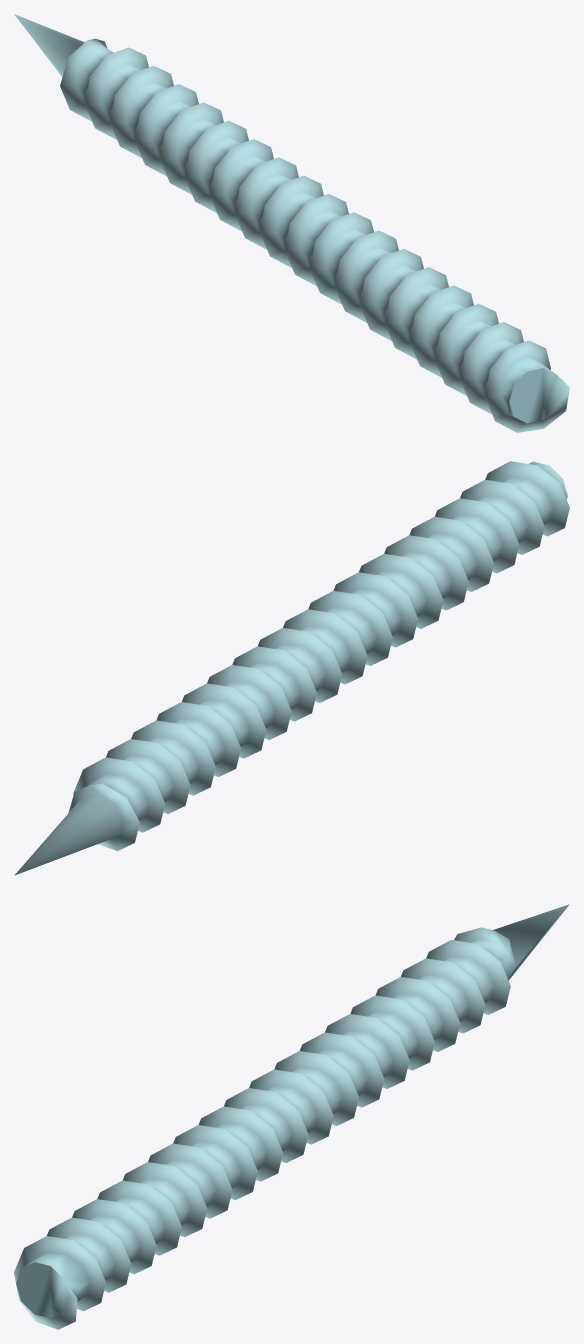
The model's file is original-8.obj.
3 renders of one model, top to bottom at view 1: azimuth 30°, elevation 25°; view 2: azimuth 150°, elevation 25°; view 3: azimuth 330°, elevation 25°, orthographic.
Parts seen in each view (by area): view 1: Group6/mesh6/mesh6-geometry#mesh6-geometry; view 2: Group6/mesh6/mesh6-geometry#mesh6-geometry; view 3: Group6/mesh6/mesh6-geometry#mesh6-geometry.
Part boxes in pixels (<box>): Group6/mesh6/mesh6-geometry#mesh6-geometry: <box>14,14,569,432</box>; Group6/mesh6/mesh6-geometry#mesh6-geometry: <box>14,461,569,875</box>; Group6/mesh6/mesh6-geometry#mesh6-geometry: <box>14,904,569,1329</box>.
Bounding box in the file's own units: 0.00163 × 0.00154 × 0.0188.
